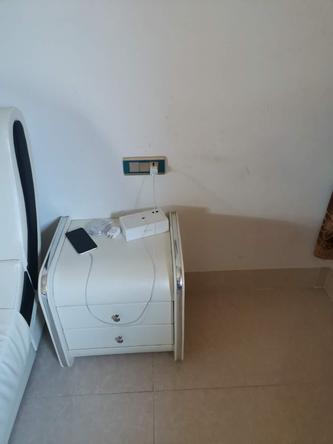switch: (128, 160, 140, 173), (140, 161, 151, 173)
